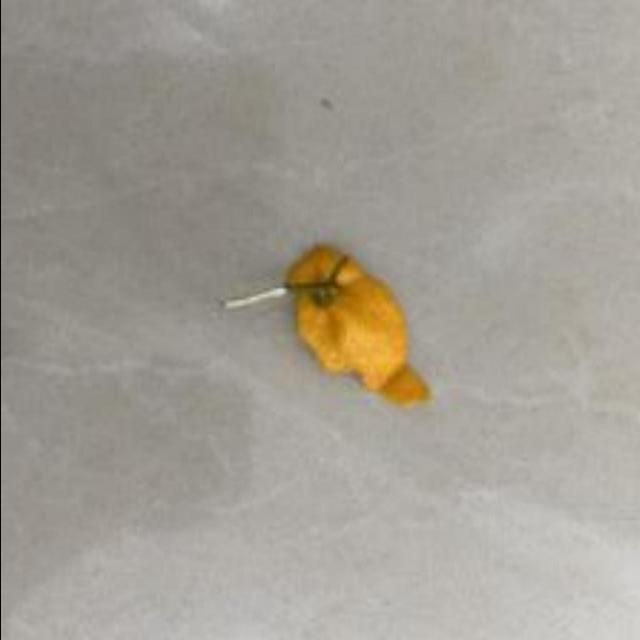orange peel: (288, 246, 434, 410)
